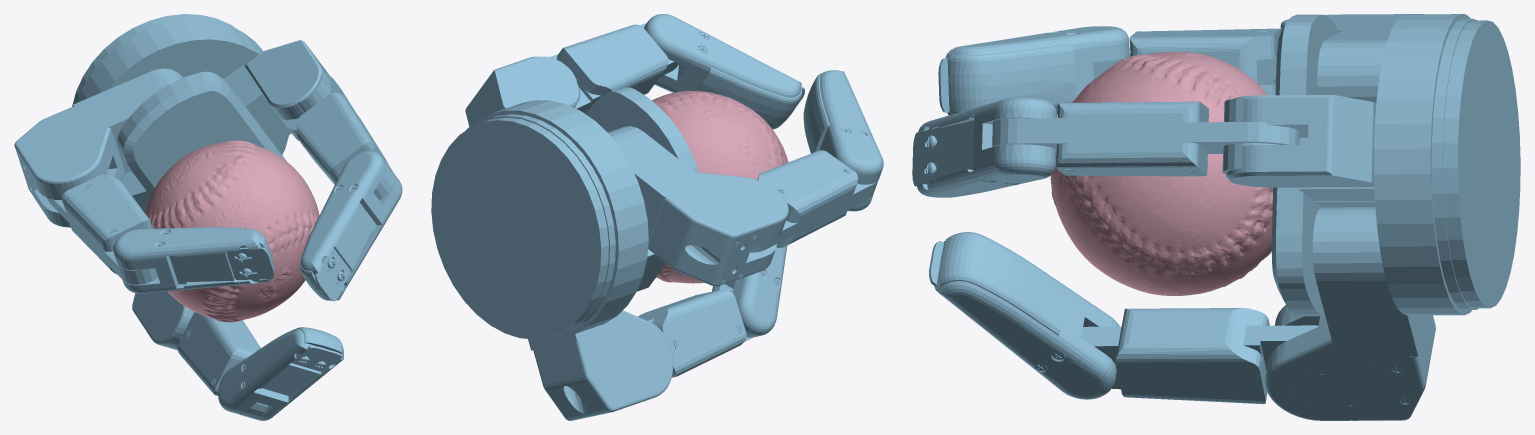
3 renders of one model, left to right at view 1: azimuth 30°, elevation 25°; view 2: azimuth 150°, elevation 25°; view 3: azimuth 270°, elevation 25°, orthographic. The views are drawn at different scales.
Parts seen in each view (by area): view 1: world, baseball.stl; view 2: world, baseball.stl; view 3: world, baseball.stl.
Part boxes in pixels (x1,y1,x2,y2): world: (14,14,402,420); baseball.stl: (144,140,319,322); world: (431,14,883,420); baseball.stl: (652,91,788,283); world: (912,14,1520,420); baseball.stl: (1050,52,1272,295).
Size of the model in its own units: 0.1407 by 0.1335 by 0.1795.
